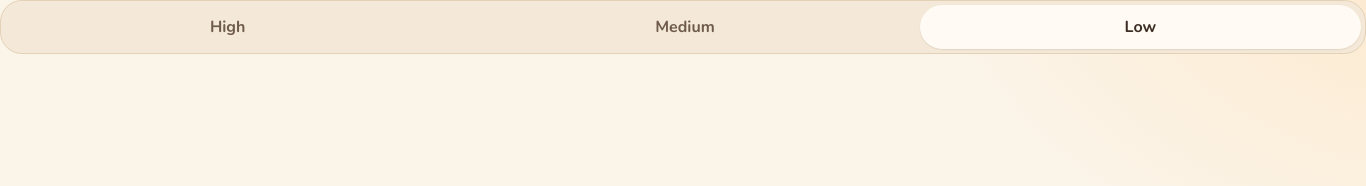
Scenario: SegmentedControl › arrow keys follow the reading direction in RTL
Click the radio button labelled "Medium": click(685, 27) [450,5,920,49]
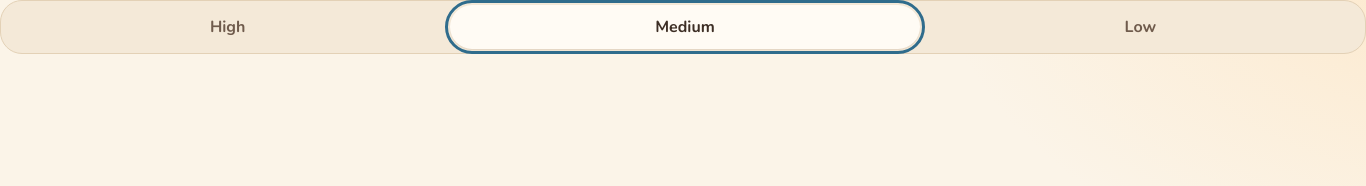
Press Arrowleft
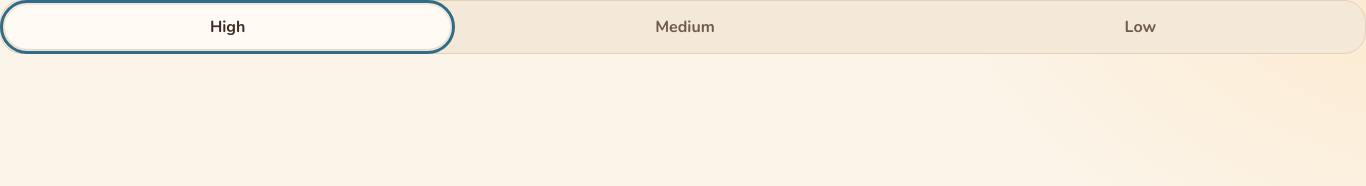
Expected: the radio button labelled "High" is checked, [5,5,450,49]
